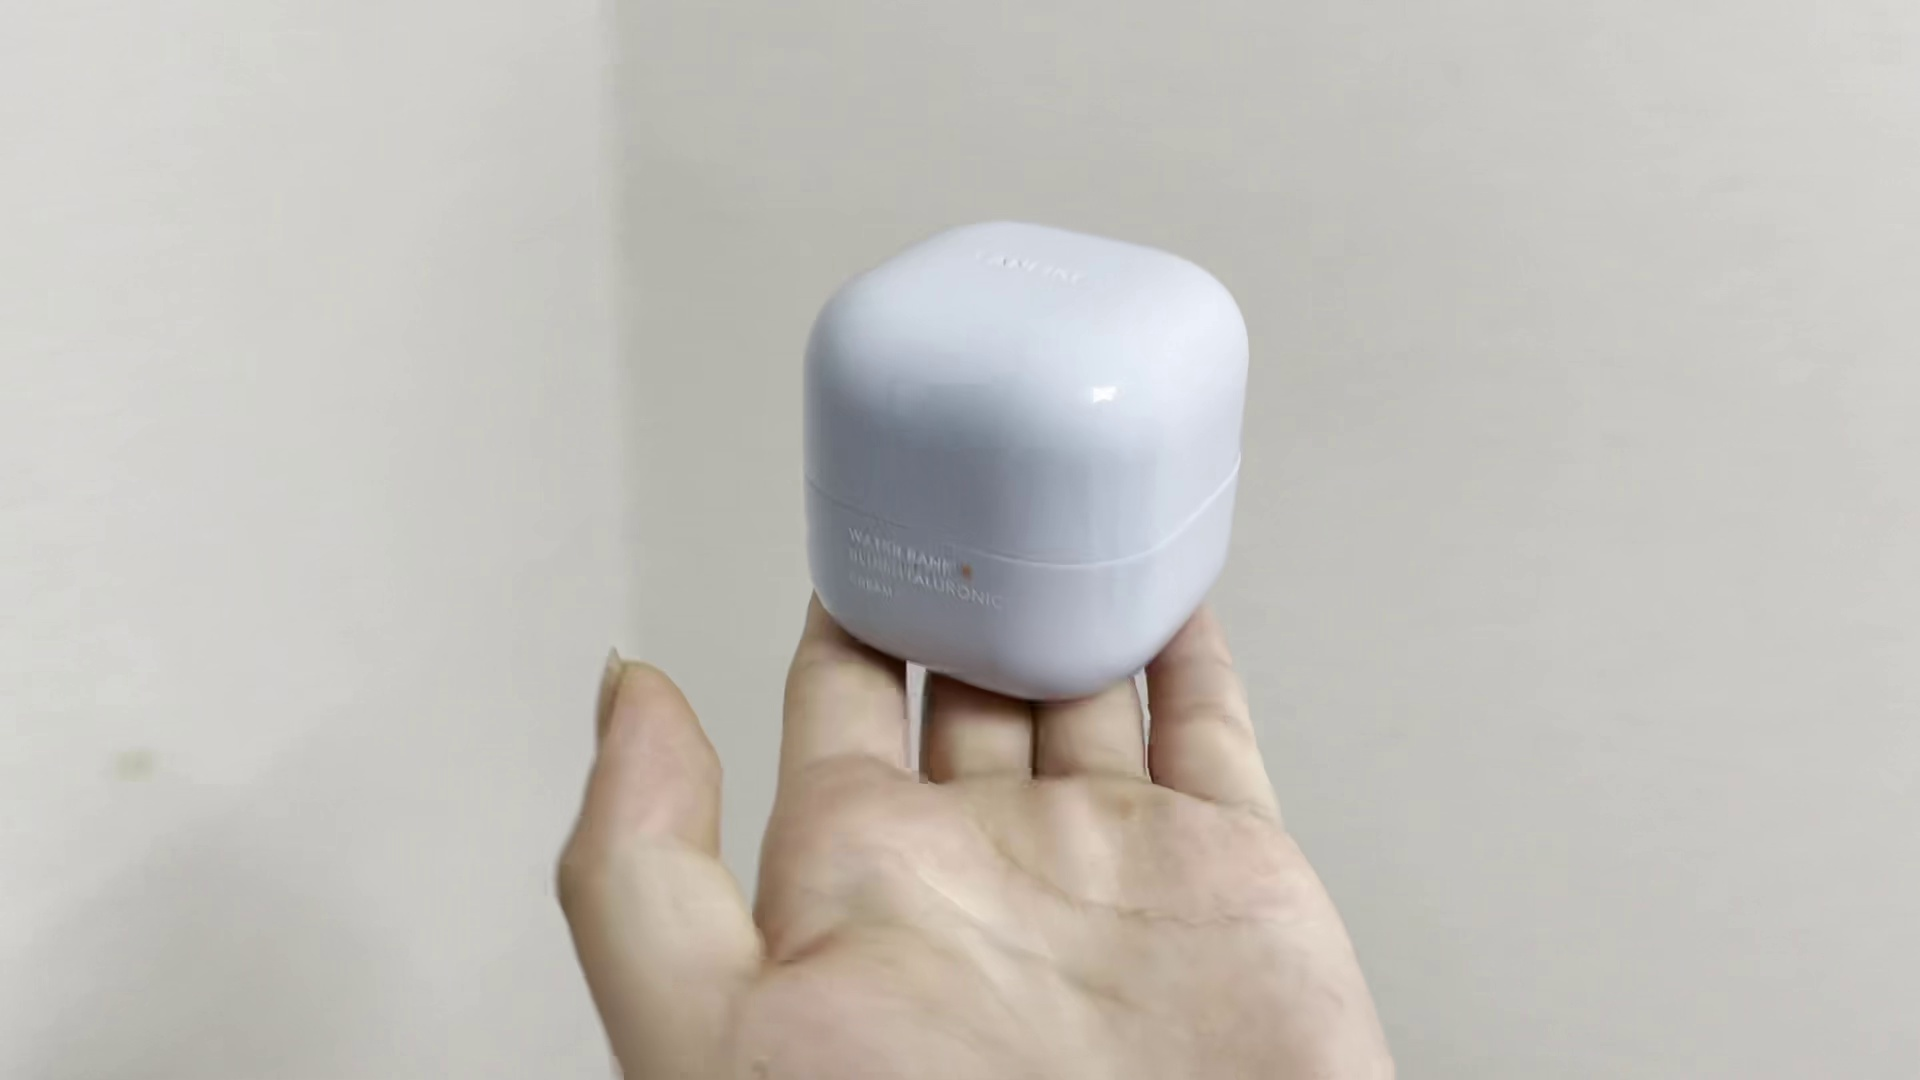cream: (798, 214, 1246, 696)
